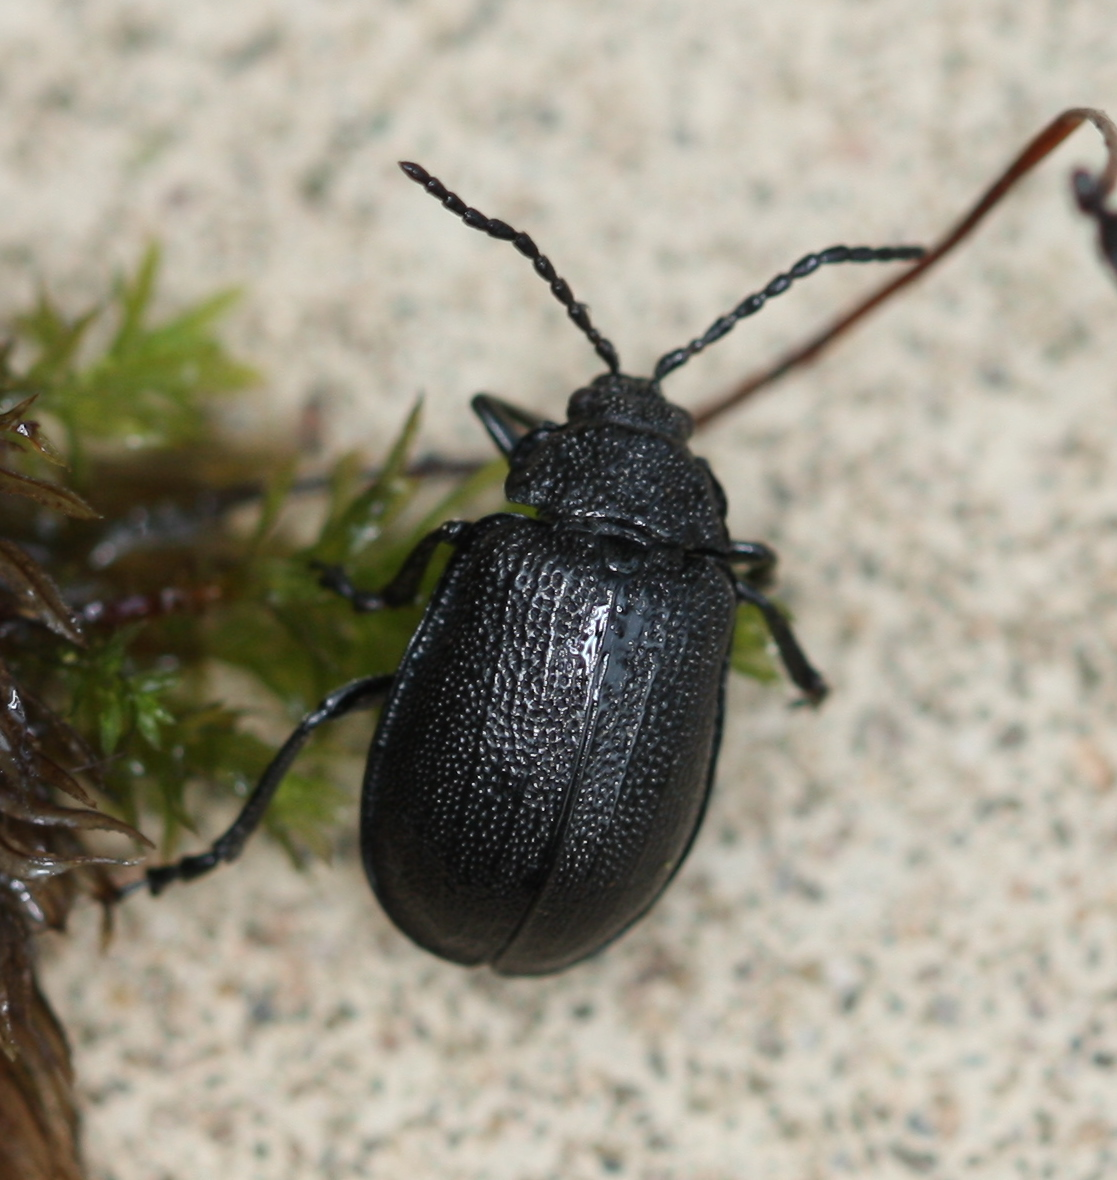Galeruca_tanaceti: (121, 156, 945, 984)
